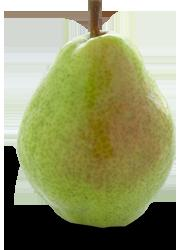Pear Semifresh: (17, 1, 178, 232)
